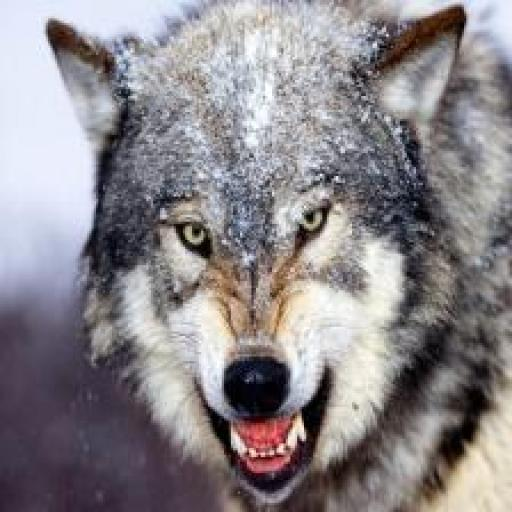wolf: (34, 0, 511, 512)
